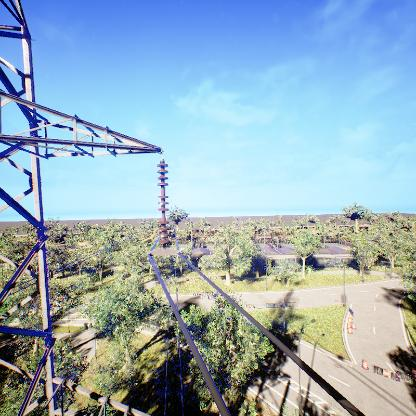insulator: (155, 160, 171, 246)
